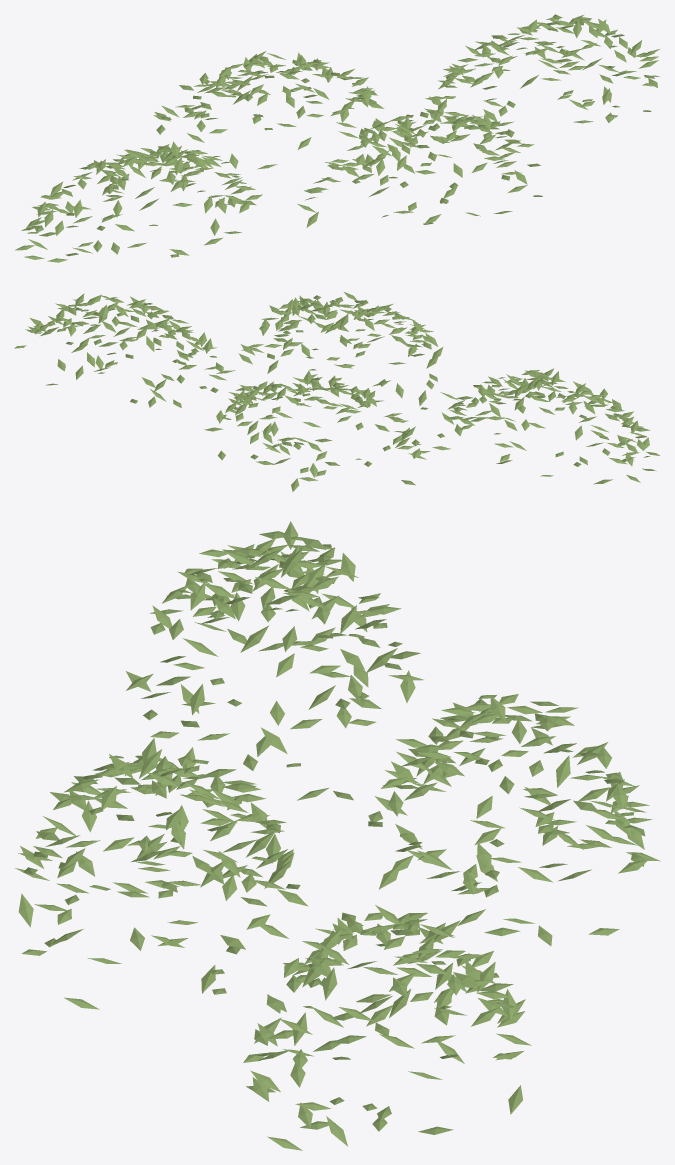
File: teaching3-vegetation-01-near.glb
3 views of the same model, one above another, from view 1: azimuth 30°, elevation 25°; view 2: azimuth 150°, elevation 25°; view 3: azimuth 270°, elevation 25° (orthographic). The views are drawn at different scales.
Visible parts, largest first — view 1: shrubs.001; view 2: shrubs.001; view 3: shrubs.001.
Part boxes in pixels (box(x1,y1,x2,y2)): shrubs.001: box(15, 14, 659, 262); shrubs.001: box(14, 292, 659, 491); shrubs.001: box(15, 521, 660, 1150).
Bounding box in the file's own units: 11.77 × 1.52 × 5.61.
